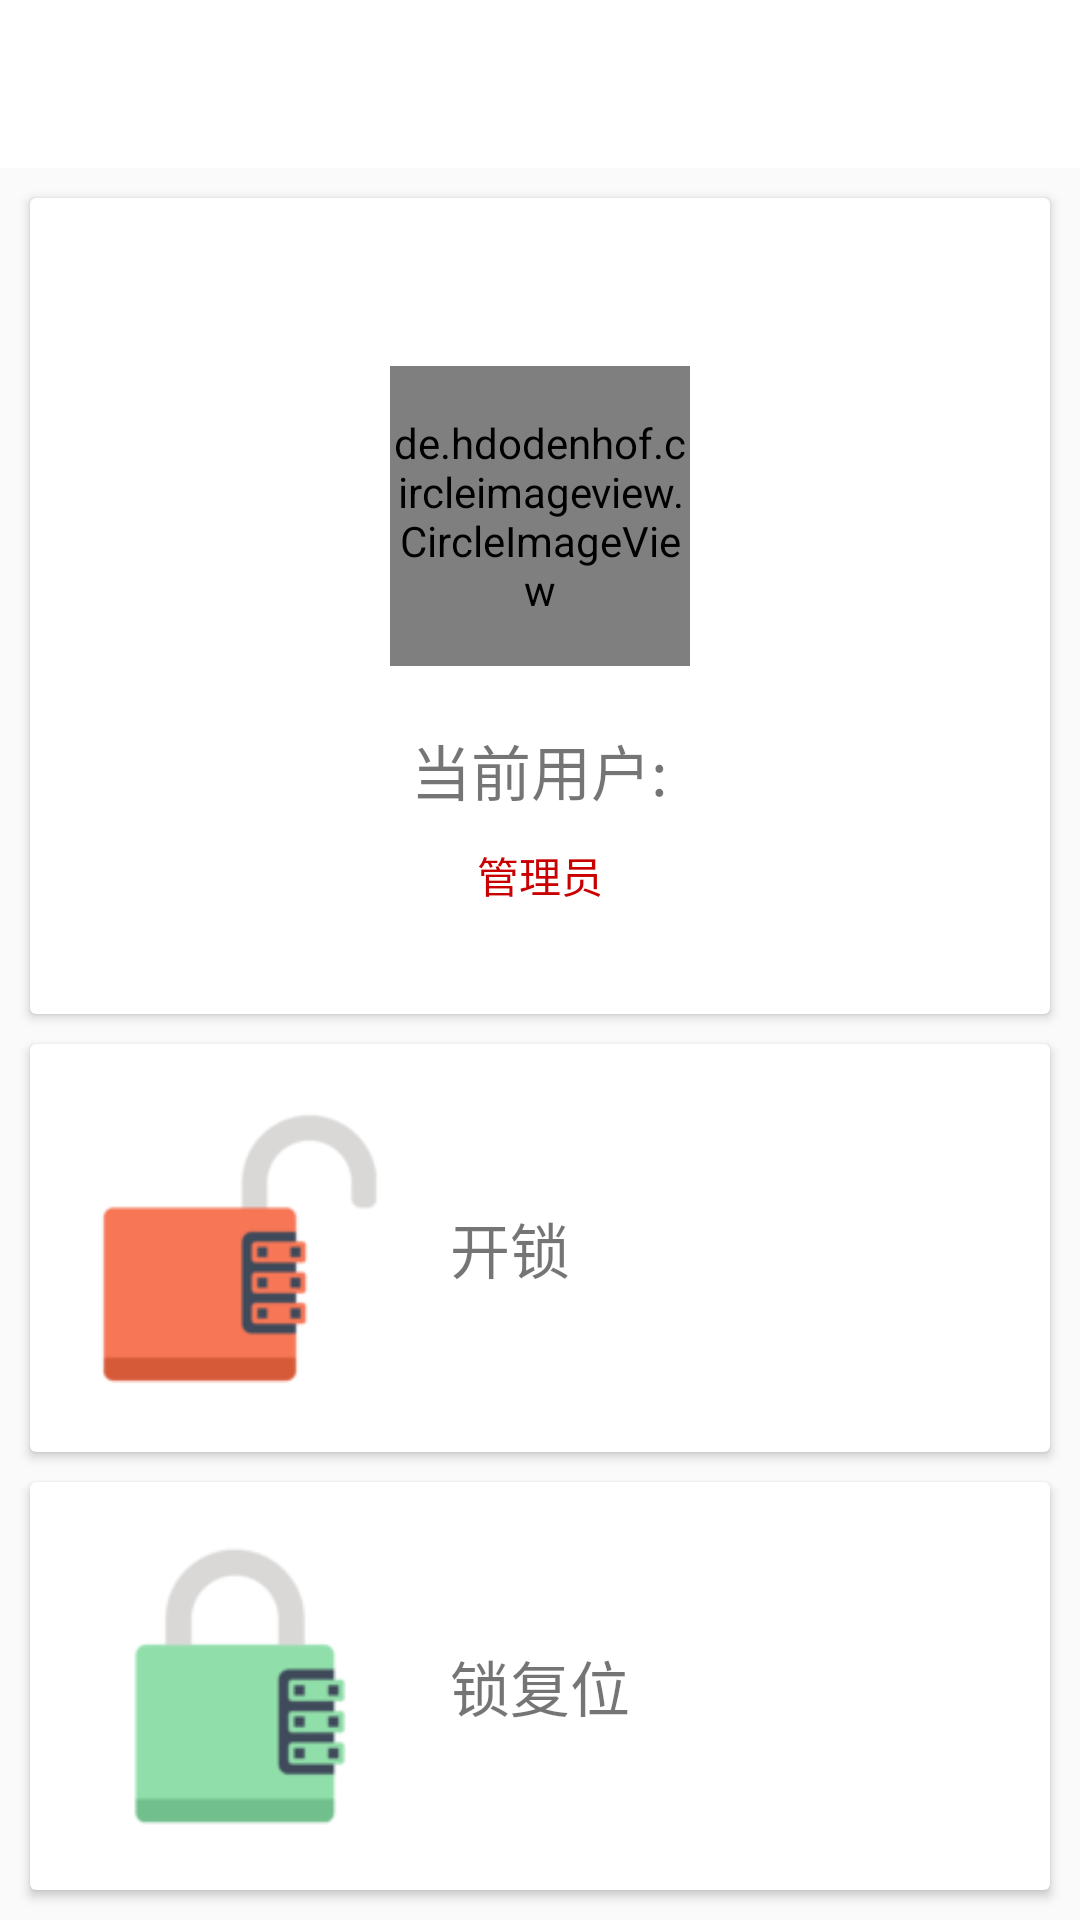

Locate icon controls on the screen. Image size 1080 x 1920, boxes as (x1, y1, x2, y2).
close: (134, 1550, 346, 1824)
